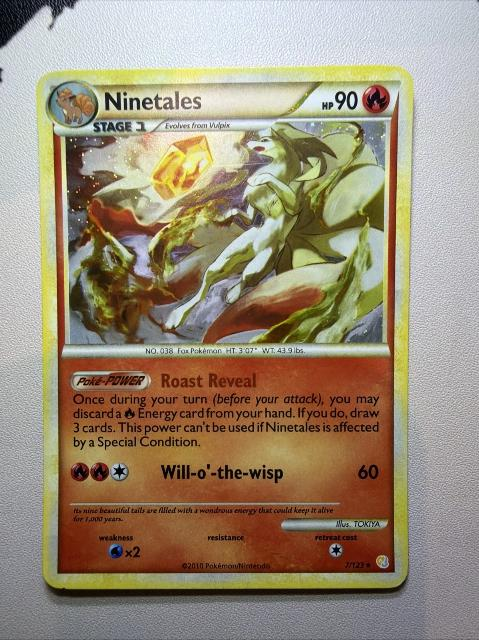Card: (30, 62, 419, 596)
Name: (100, 85, 210, 116)
